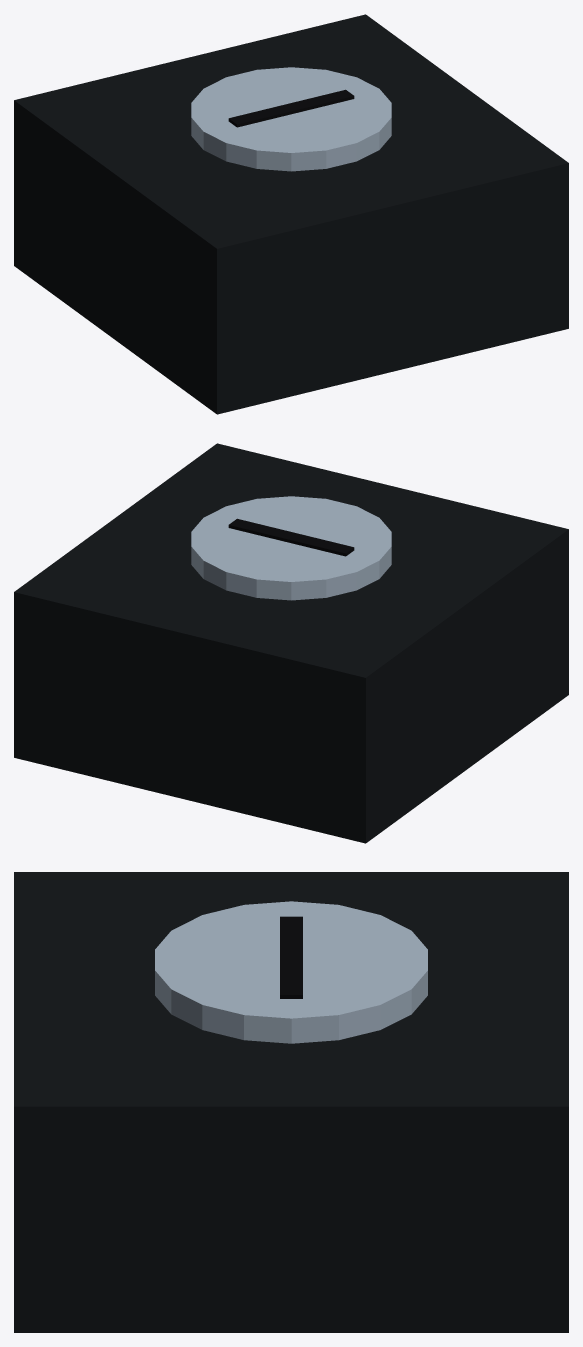
The model's file is 41_L96_RV1_Trimmer.fbx.
3 views of the same model, one above another, from view 1: azimuth 30°, elevation 25°; view 2: azimuth 150°, elevation 25°; view 3: azimuth 270°, elevation 25° (orthographic). The views are drawn at different scales.
Visible parts, largest first — view 1: RV1_000_Calibration_Trimmer_Housing, RV1_001_TrimScrew, RV1_002_ScrewSlot; view 2: RV1_000_Calibration_Trimmer_Housing, RV1_001_TrimScrew, RV1_002_ScrewSlot; view 3: RV1_000_Calibration_Trimmer_Housing, RV1_001_TrimScrew, RV1_002_ScrewSlot.
Boxes of the visible parts, <box> form: RV1_000_Calibration_Trimmer_Housing: <box>14,14,568,414</box>; RV1_001_TrimScrew: <box>191,67,391,171</box>; RV1_002_ScrewSlot: <box>228,89,354,127</box>; RV1_000_Calibration_Trimmer_Housing: <box>14,443,568,843</box>; RV1_001_TrimScrew: <box>191,496,391,600</box>; RV1_002_ScrewSlot: <box>228,518,354,556</box>; RV1_000_Calibration_Trimmer_Housing: <box>14,872,568,1332</box>; RV1_001_TrimScrew: <box>155,901,427,1043</box>; RV1_002_ScrewSlot: <box>280,916,302,998</box>.
Bounding box in the file's own units: 0.006 × 0.00323 × 0.006.
